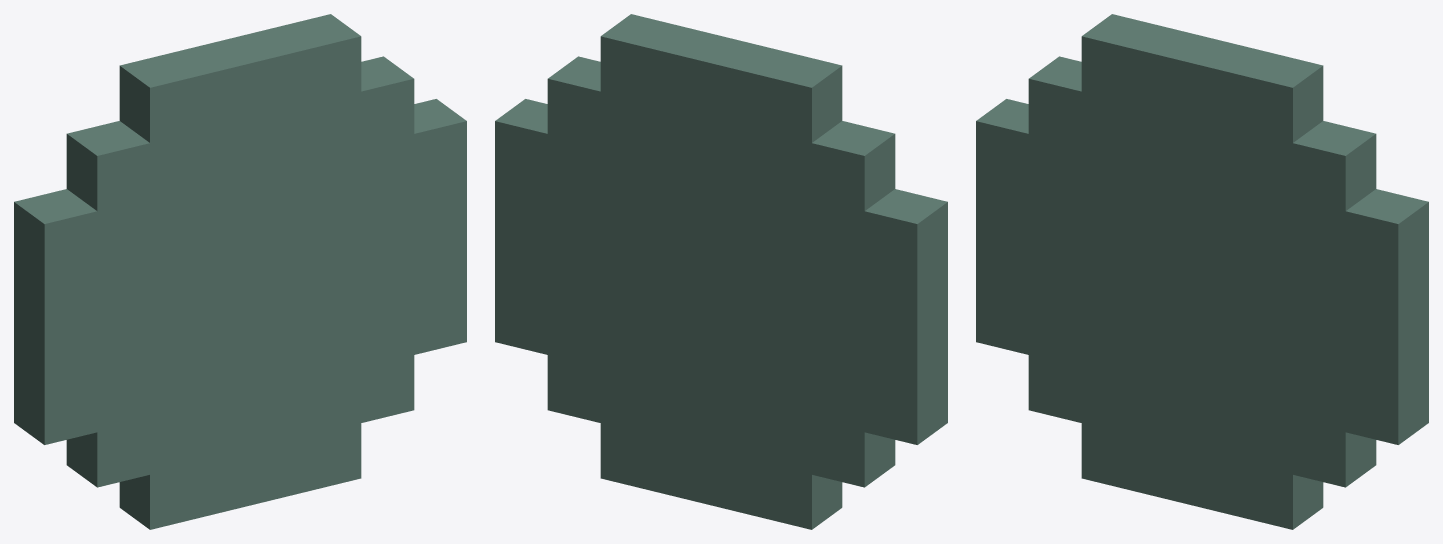
The model's file is Coin_Small_2.glb.
3 renders of one model, left to right at view 1: azimuth 30°, elevation 25°; view 2: azimuth 150°, elevation 25°; view 3: azimuth 330°, elevation 25°, orthographic.
Visible parts, largest first — view 1: Coin_Small_2; view 2: Coin_Small_2; view 3: Coin_Small_2.
Part boxes in pixels (bbox=[...]): Coin_Small_2: bbox=[14, 14, 466, 529]; Coin_Small_2: bbox=[495, 14, 947, 529]; Coin_Small_2: bbox=[976, 14, 1428, 529].
Bounding box in the file's own units: 0.2 × 0.2 × 0.025.
